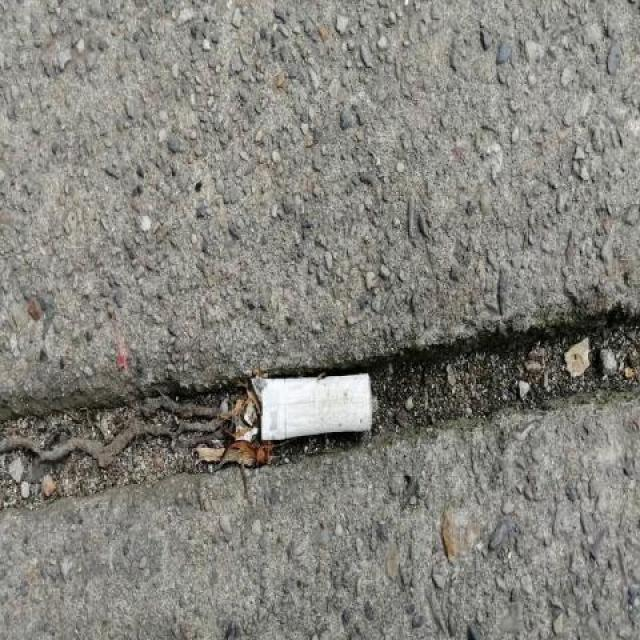non-organic waste: (249, 371, 378, 444)
